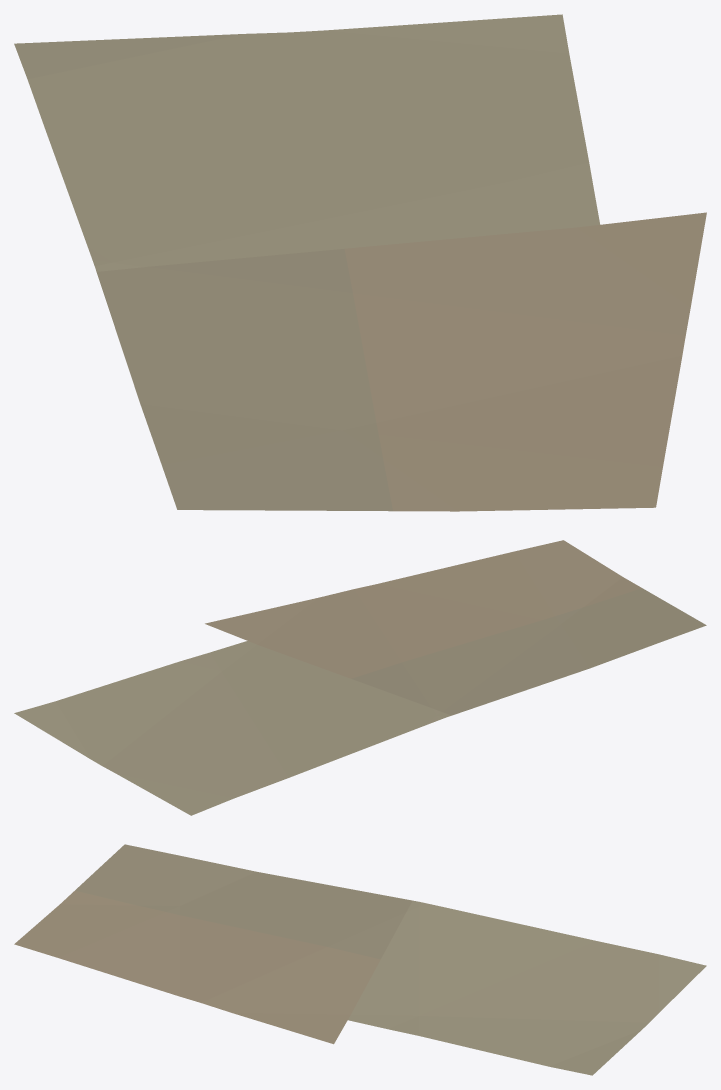
Rendered from farm_7_-2_soil.glb.
3 renders of one model, top to bottom at view 1: azimuth 30°, elevation 25°; view 2: azimuth 150°, elevation 25°; view 3: azimuth 270°, elevation 25°, orthographic. The views are drawn at different scales.
Visible parts, largest first — view 1: geometry_0; view 2: geometry_0; view 3: geometry_0.
Part boxes in pixels (bbox=[...]): geometry_0: bbox=[14, 14, 706, 511]; geometry_0: bbox=[14, 540, 706, 815]; geometry_0: bbox=[14, 844, 706, 1075].
Bounding box in the file's own units: 168 × 8.07 × 232.
